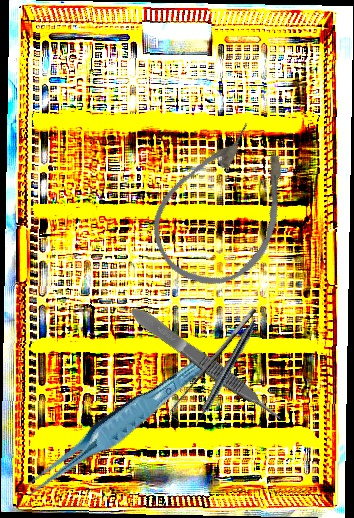Cannula: (133, 106, 319, 307)
Handpiece: (189, 318, 258, 431)
Hook Surgical: (164, 306, 265, 422)
Tissue Forceps: (11, 352, 219, 500), (127, 302, 286, 428)
